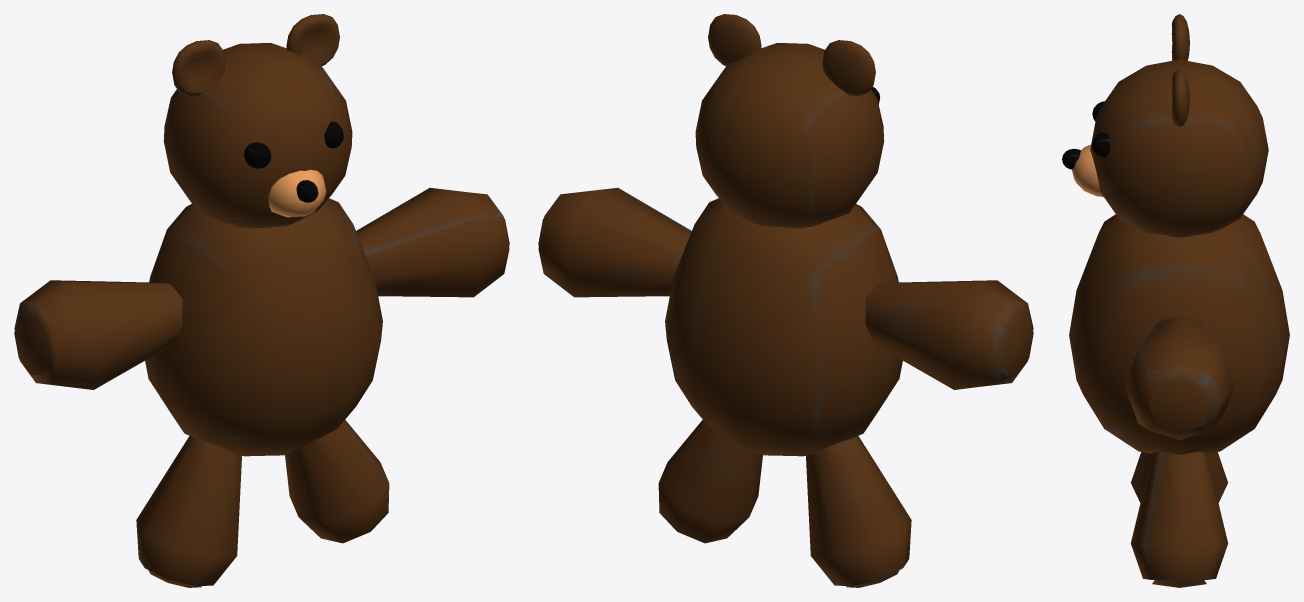
File: Teddy Bear.fbx
3 renders of one model, left to right at view 1: azimuth 30°, elevation 25°; view 2: azimuth 150°, elevation 25°; view 3: azimuth 270°, elevation 25°, orthographic. The views are drawn at different scales.
Visible parts, largest first — view 1: pCube13; view 2: pCube13; view 3: pCube13.
Part boxes in pixels (x1,y1,x2,y2): pCube13: [14, 14, 509, 587]; pCube13: [538, 14, 1033, 587]; pCube13: [1062, 14, 1289, 587].
Bounding box in the file's own units: 5.32 × 5.82 × 2.34.
1 material, 1 textured.
